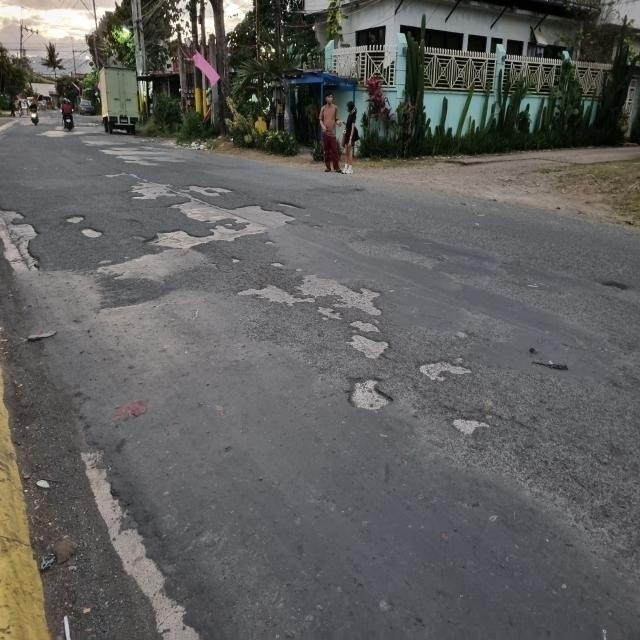pothole: (240, 244, 516, 463)
